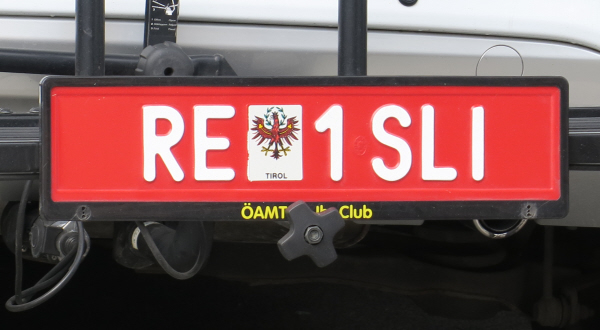license_plate: (41, 77, 567, 215)
